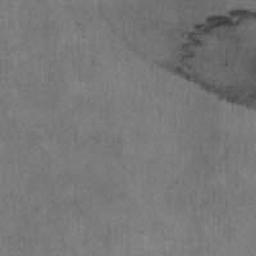Oil spot: (93, 0, 256, 111)
